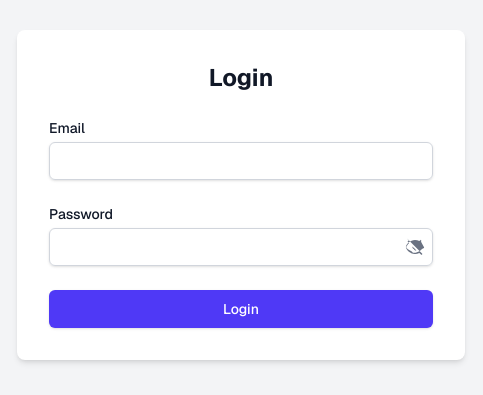
Test: LoginPage › should show validation error for short password
In the field labelled "Email": [241, 161] box [49,142,433,180], type "test@example.com"
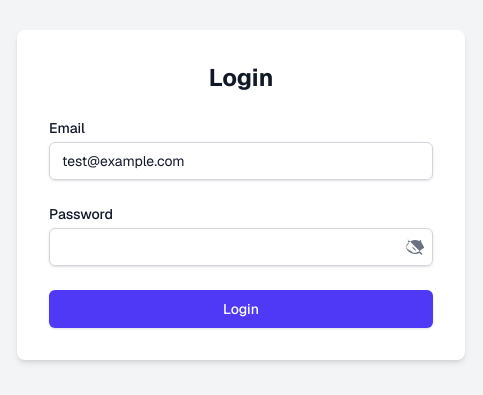
In the password field labelled "Password": [241, 247] box [49,228,433,266], type "123"
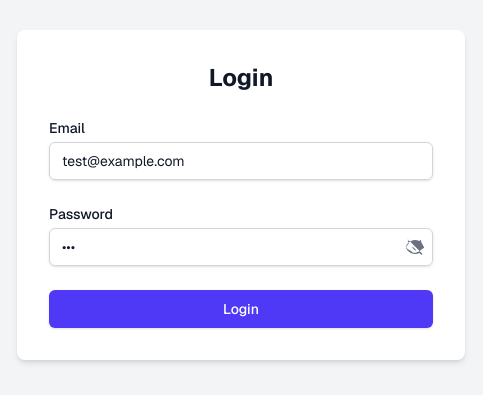
Click the button "Login": [241, 309] box [49,290,433,328]
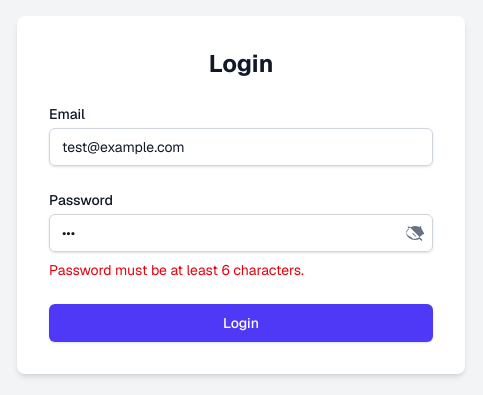
Expected: the text "Password must be at least 6 characters." is shown, [49,261,304,279]
